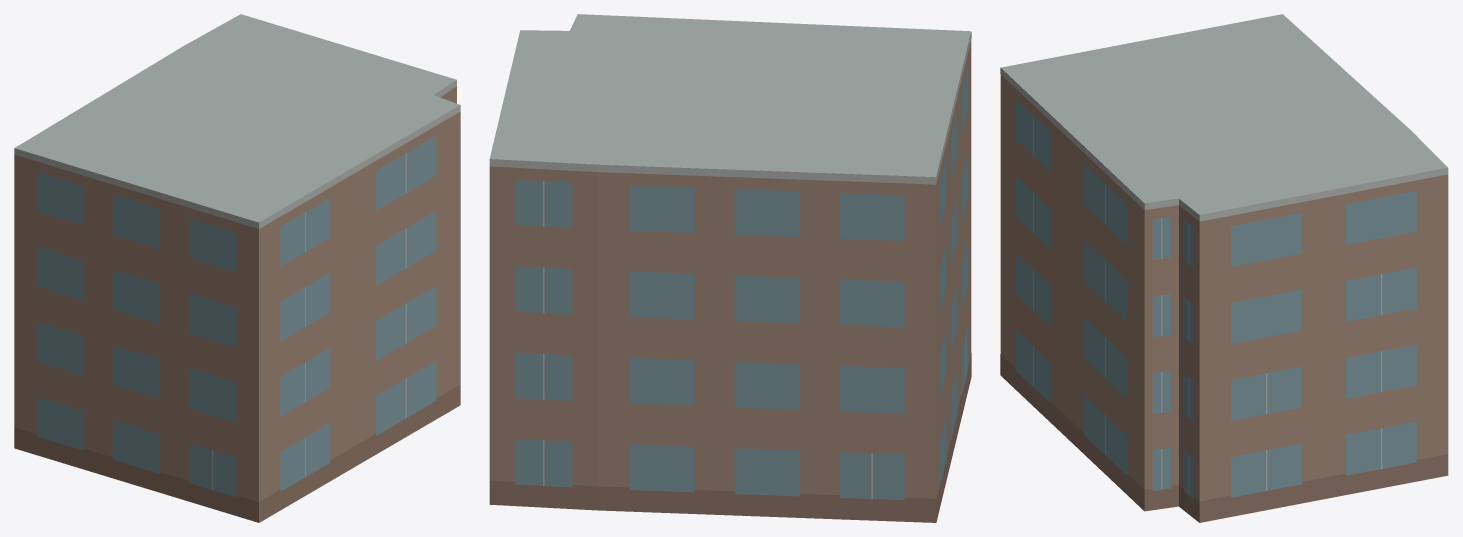
File: survey-upis-32595216.glb
3 views of the same model, side by side, from view 1: azimuth 30°, elevation 25°; view 2: azimuth 150°, elevation 25°; view 3: azimuth 270°, elevation 25° (orthographic). The views are drawn at different scales.
Parts seen in each view (by area): view 1: survey-upis-32595216.tmp; view 2: survey-upis-32595216.tmp; view 3: survey-upis-32595216.tmp.
Boxes of the visible parts, <box> form: survey-upis-32595216.tmp: <box>14,14,460,522</box>; survey-upis-32595216.tmp: <box>489,14,971,522</box>; survey-upis-32595216.tmp: <box>1000,14,1448,522</box>.
Size of the model in its own units: 15.98 by 11.4 by 15.04.
